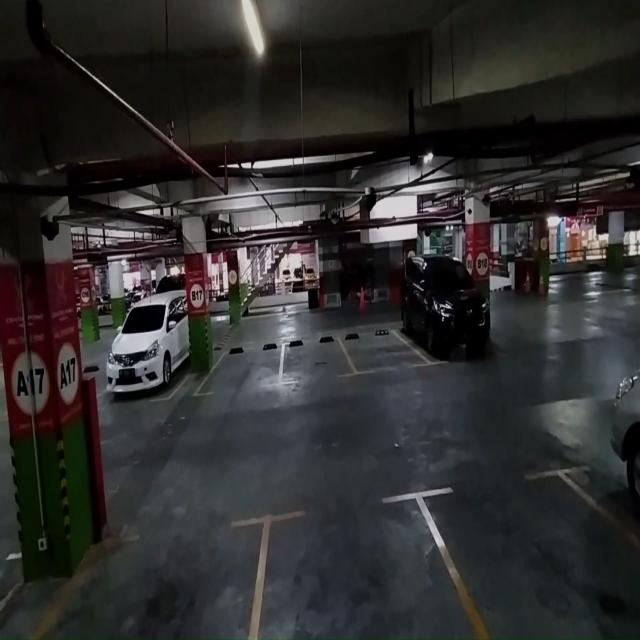empty: (427, 458, 638, 640), (251, 493, 478, 634), (210, 342, 280, 399), (280, 331, 350, 386), (347, 327, 418, 378)
occupied: (417, 285, 497, 368)
